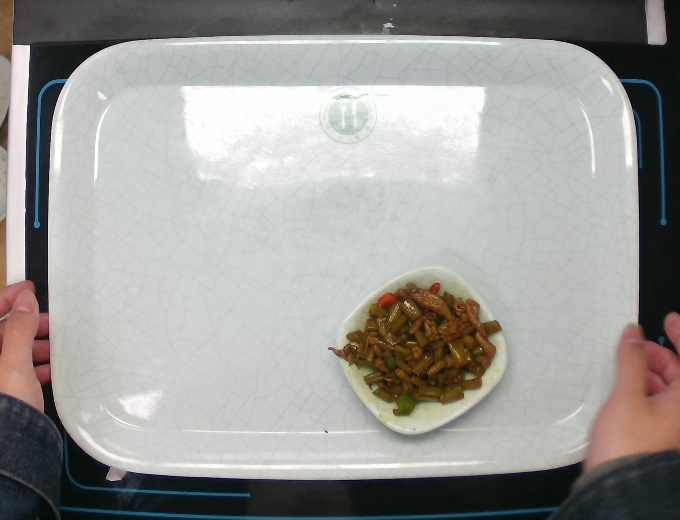JYsf-Si_Fang_Die: (330, 263, 512, 439)
